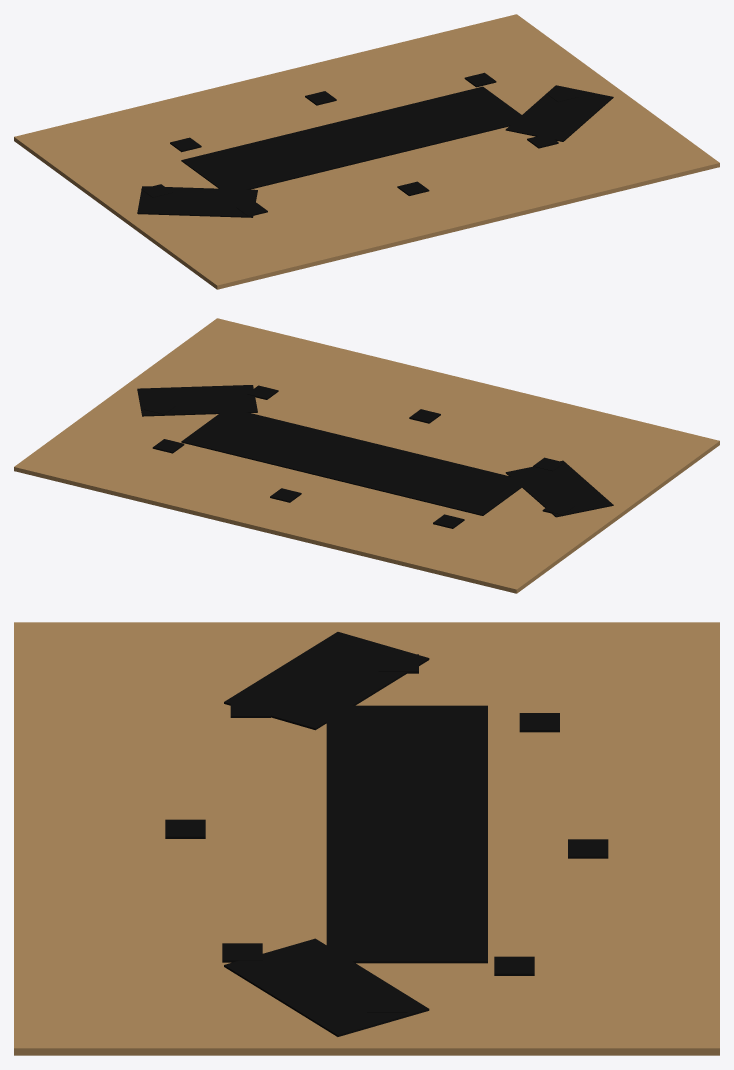
Rendered from mustache_stencil.glb.
3 views of the same model, one above another, from view 1: azimuth 30°, elevation 25°; view 2: azimuth 150°, elevation 25°; view 3: azimuth 270°, elevation 25° (orthographic). The views are drawn at different scales.
Visible parts, largest first — view 1: card_stencil_card, cutout_spray_black, spray_spray_black; view 2: card_stencil_card, cutout_spray_black, spray_spray_black; view 3: card_stencil_card, cutout_spray_black, spray_spray_black.
Boxes of the visible parts, x1,y1,x2,y2 form: card_stencil_card: (14,14,719,289); cutout_spray_black: (137,85,613,217); spray_spray_black: (141,72,577,215); card_stencil_card: (14,318,719,593); cutout_spray_black: (137,385,613,517); spray_spray_black: (144,385,574,528); card_stencil_card: (14,622,719,1055); cutout_spray_black: (224,632,487,1036); spray_spray_black: (165,654,608,1012).
Size of the model in its own units: 0.5 by 0.00525 by 0.35.
